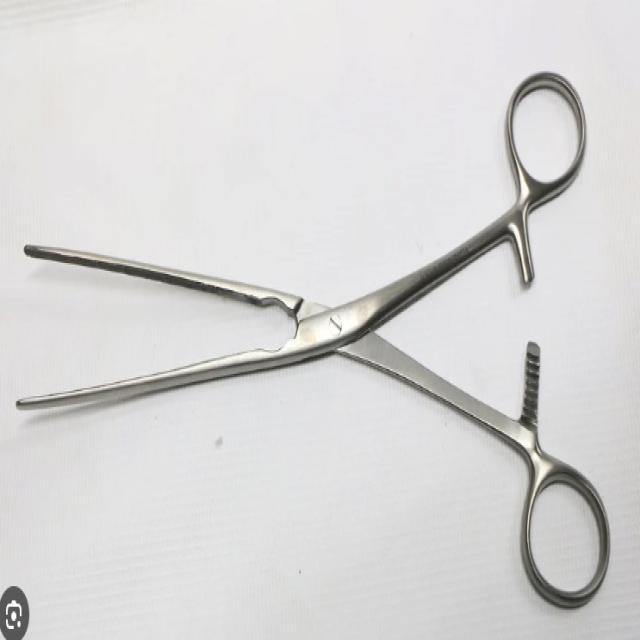Doyel Instestinal Forceps: (17, 61, 613, 615)
